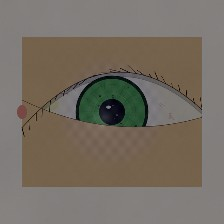pinguecula_lesion: (32, 89, 68, 118)
